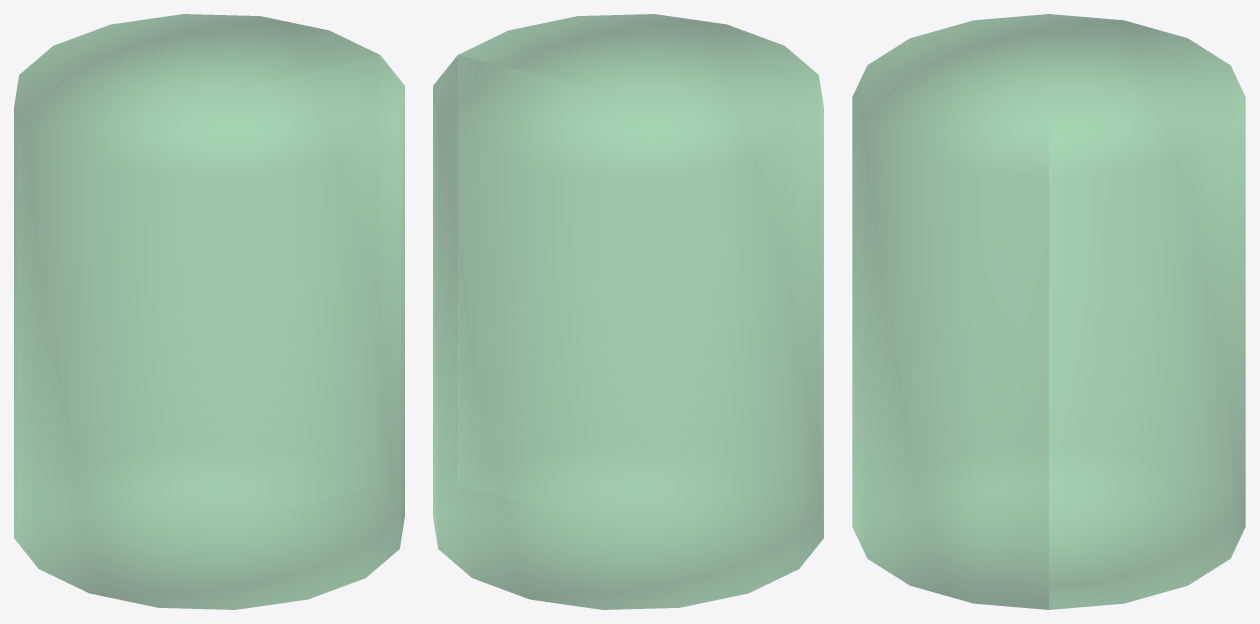
File: prop_kolshi_col.glb
3 renders of one model, left to right at view 1: azimuth 30°, elevation 25°; view 2: azimuth 150°, elevation 25°; view 3: azimuth 270°, elevation 25°, orthographic.
Parts seen in each view (by area): view 1: prop_kolshi_col_0; view 2: prop_kolshi_col_0; view 3: prop_kolshi_col_0.
Boxes of the visible parts, bbox=[...] form: prop_kolshi_col_0: bbox=[14, 14, 404, 609]; prop_kolshi_col_0: bbox=[433, 14, 823, 609]; prop_kolshi_col_0: bbox=[852, 14, 1245, 609].
Bounding box in the file's own units: 0.2903 × 0.35 × 0.2903.
